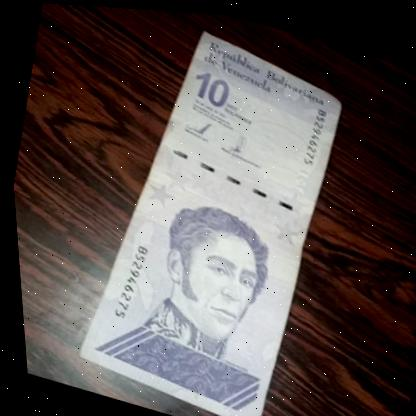ten-front-vef: (44, 7, 369, 416)
